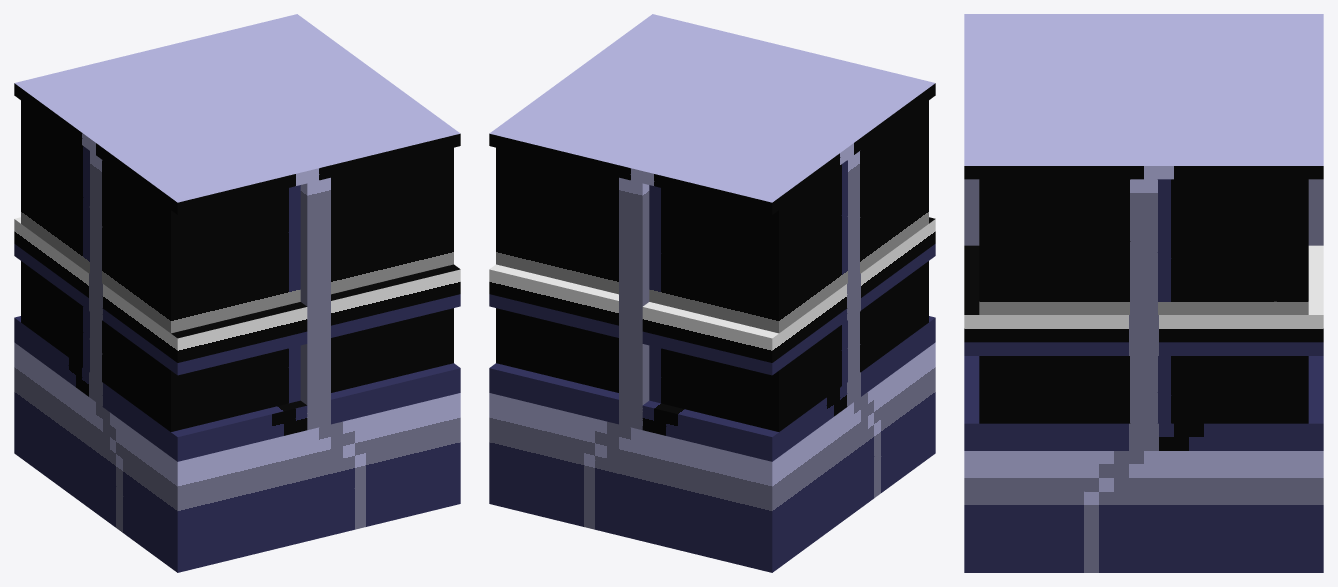
The model's file is hitek_tile_018.gltf.
The picture shows the model from 3 angles, left to right: view 1: azimuth 30°, elevation 25°; view 2: azimuth 150°, elevation 25°; view 3: azimuth 270°, elevation 25°; orthographic projection. The views are drawn at different scales.
Visible parts, largest first — view 1: hitek_tile_018; view 2: hitek_tile_018; view 3: hitek_tile_018.
Boxes of the visible parts, bbox=[...] form: hitek_tile_018: bbox=[14, 14, 460, 572]; hitek_tile_018: bbox=[489, 14, 935, 572]; hitek_tile_018: bbox=[964, 14, 1323, 572].
Bounding box in the file's own units: 16 × 20 × 16.
Materials: 1 (1 with a texture image).
